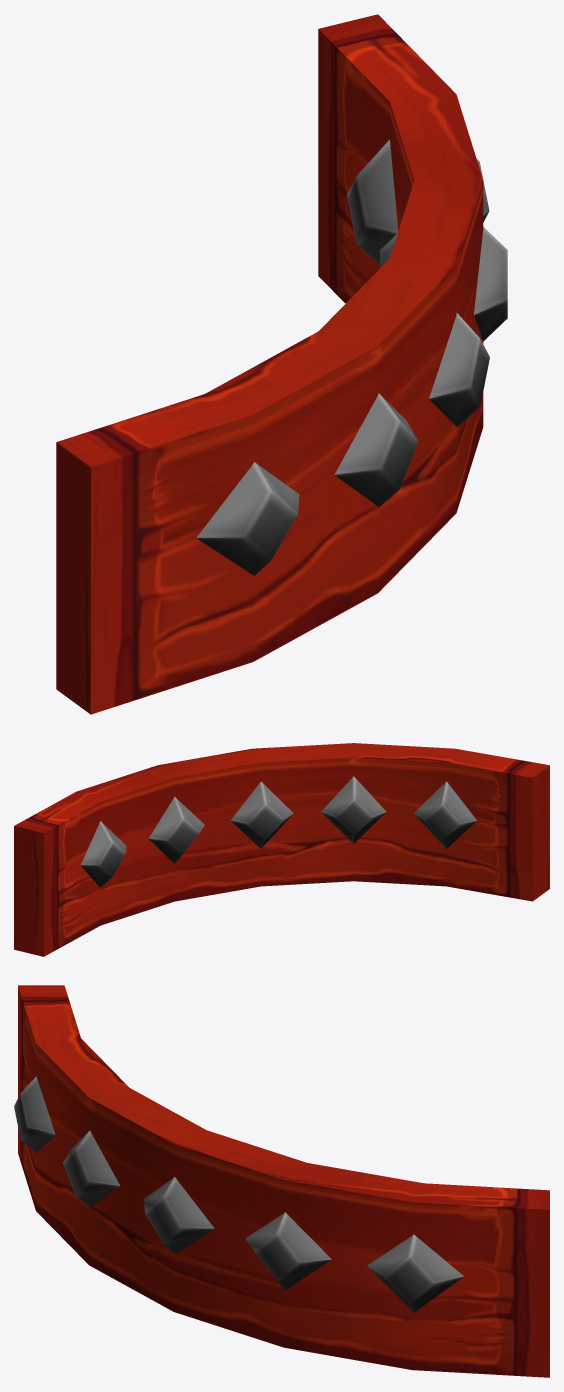
The model's file is arched_fence_red_03.fbx.
3 renders of one model, top to bottom at view 1: azimuth 30°, elevation 25°; view 2: azimuth 150°, elevation 25°; view 3: azimuth 270°, elevation 25°, orthographic. The views are drawn at different scales.
Visible parts, largest first — view 1: arched_fence_red_03; view 2: arched_fence_red_03; view 3: arched_fence_red_03.
Part boxes in pixels (box(x1,y1,x2,y2)): arched_fence_red_03: box(56, 14, 507, 714); arched_fence_red_03: box(14, 743, 549, 956); arched_fence_red_03: box(14, 985, 549, 1377).
Size of the model in its own units: 116 by 40 by 116.
